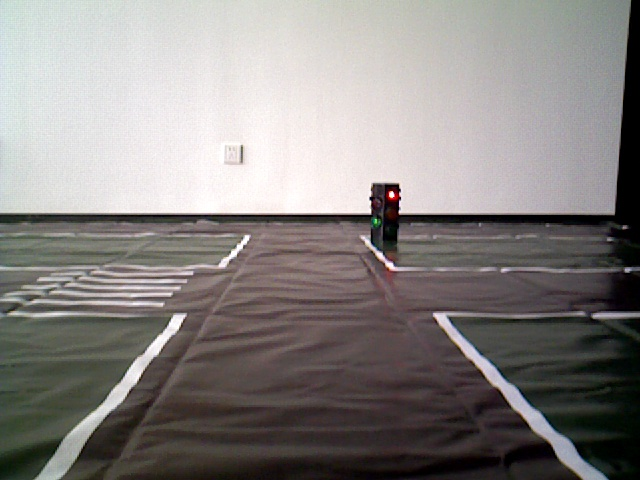red: (370, 183, 398, 244)
